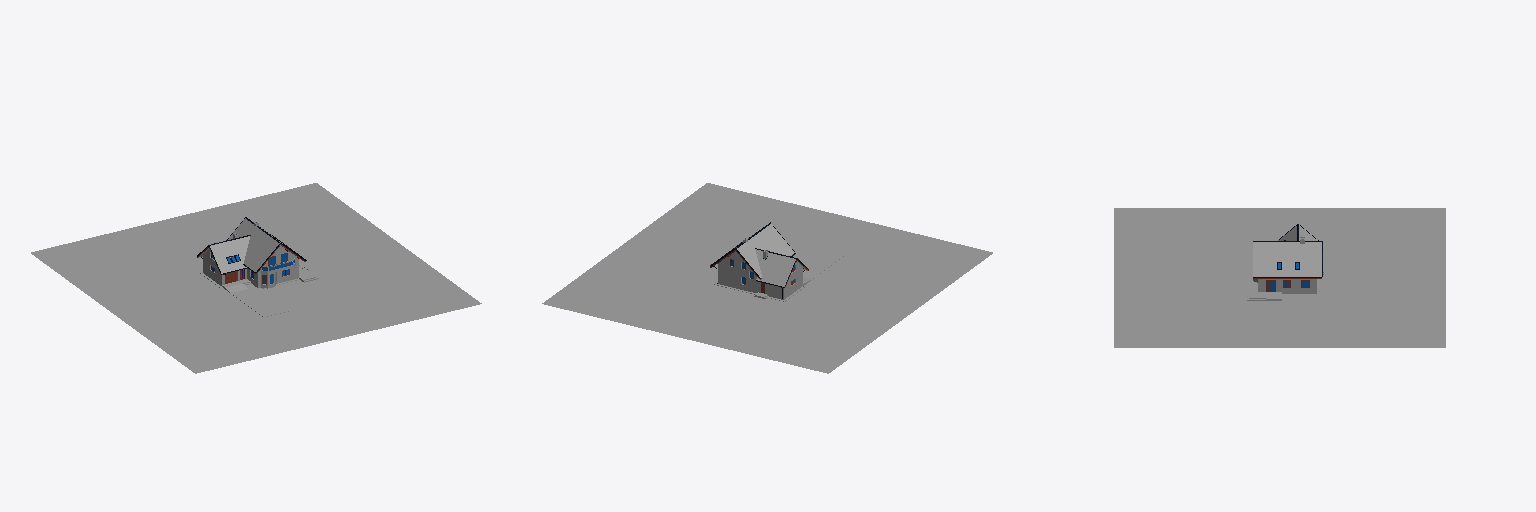
Rendered from house.obj.
3 renders of one model, left to right at view 1: azimuth 30°, elevation 25°; view 2: azimuth 150°, elevation 25°; view 3: azimuth 270°, elevation 25°, orthographic.
Parts seen in each view (by area): view 1: house_10; view 2: house_10; view 3: house_10.
Part boxes in pixels (left/top/right/bottom): house_10: left=31, top=183, right=481, bottom=373; house_10: left=542, top=183, right=992, bottom=373; house_10: left=1114, top=208, right=1445, bottom=347.
Bounding box in the file's own units: 23.52 × 3.53 × 23.52.